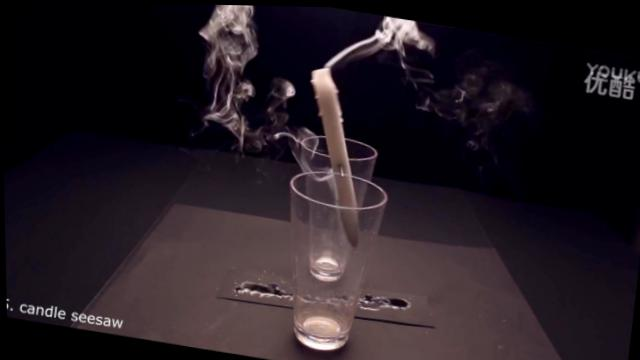smoke: (181, 3, 276, 145), (367, 12, 433, 60)
